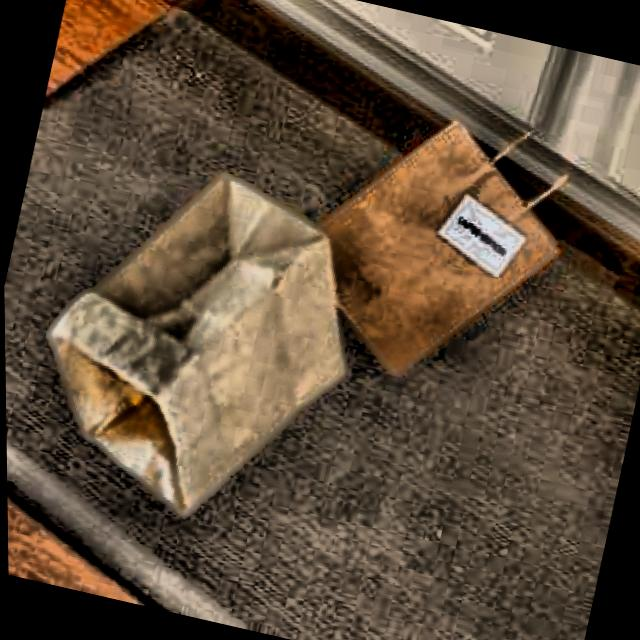Paper-bag: (6, 138, 391, 558), (259, 62, 605, 424)
